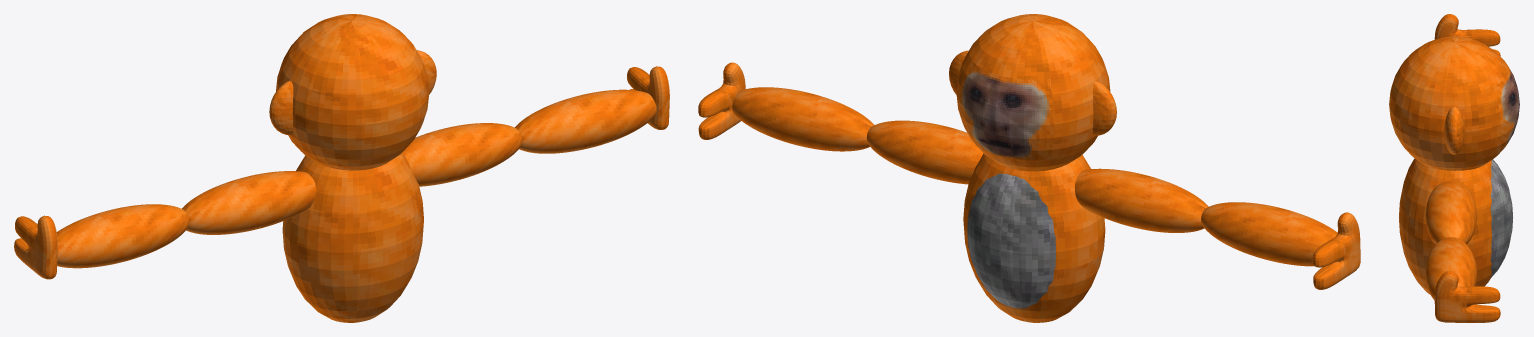
Rendered from ApePlayer.fbx.
3 views of the same model, side by side, from view 1: azimuth 30°, elevation 25°; view 2: azimuth 150°, elevation 25°; view 3: azimuth 270°, elevation 25° (orthographic). The views are drawn at different scales.
Parts seen in each view (by area): view 1: Sphere; view 2: Sphere; view 3: Sphere.
Part boxes in pixels (<box>): Sphere: <box>14,14,669,322</box>; Sphere: <box>698,14,1360,322</box>; Sphere: <box>1389,14,1519,322</box>.
Bounding box in the file's own units: 699 × 316 × 146.
